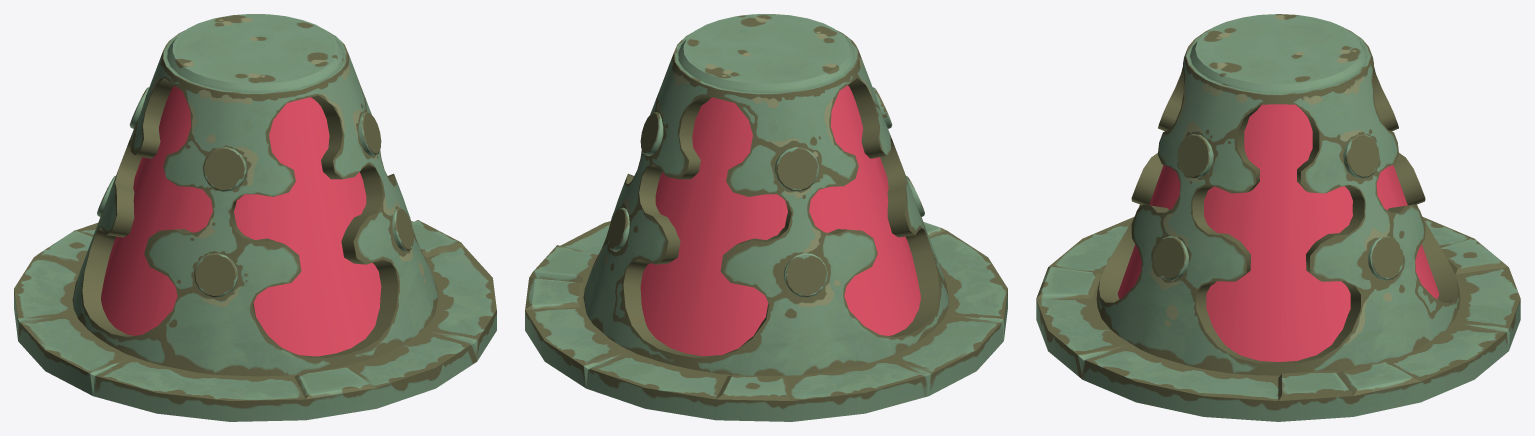
File: FrogSeptre_Static.fbx
3 renders of one model, left to right at view 1: azimuth 30°, elevation 25°; view 2: azimuth 150°, elevation 25°; view 3: azimuth 270°, elevation 25°, orthographic.
Visible parts, largest first — view 1: Shell, pillarFloor, glowPart; view 2: Shell, pillarFloor, glowPart; view 3: Shell, pillarFloor, glowPart.
Part boxes in pixels (x1,y1,x2,y2): Shell: (72, 14, 438, 376); pillarFloor: (14, 220, 496, 421); glowPart: (101, 86, 381, 356); Shell: (583, 14, 949, 375); pillarFloor: (525, 221, 1007, 421); glowPart: (640, 85, 920, 356); Shell: (1096, 14, 1460, 375); pillarFloor: (1036, 217, 1520, 421); glowPart: (1117, 104, 1439, 361).
Size of the model in its own units: 243 by 150 by 243.
